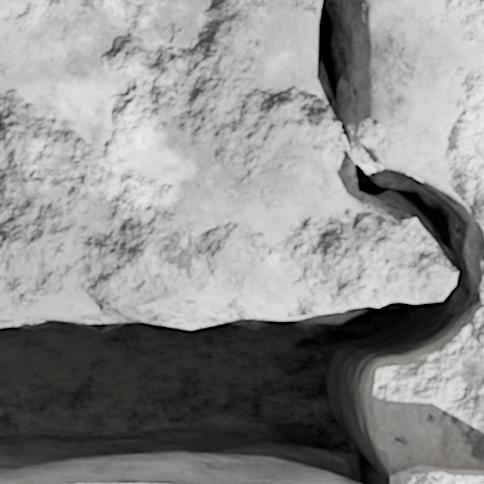broken_brick: (0, 0, 456, 318), (358, 0, 483, 230), (3, 473, 235, 483), (392, 464, 483, 483), (480, 246, 483, 305), (276, 482, 333, 483)
crack: (0, 0, 483, 483)
